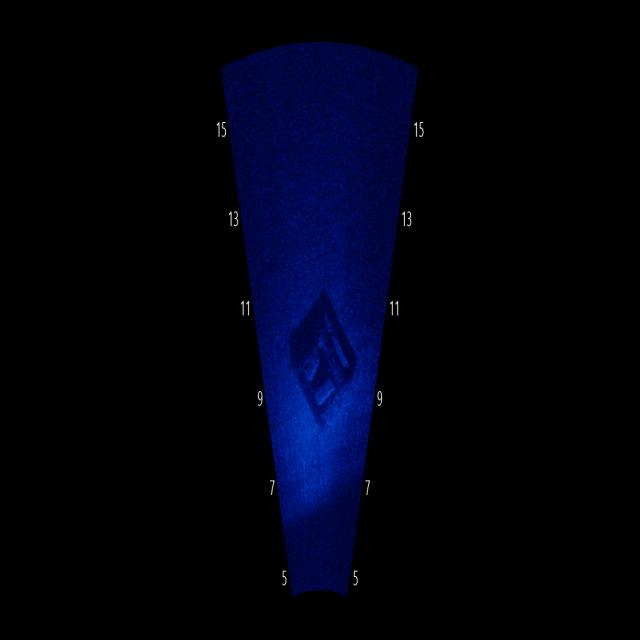square: (282, 292, 371, 436)
